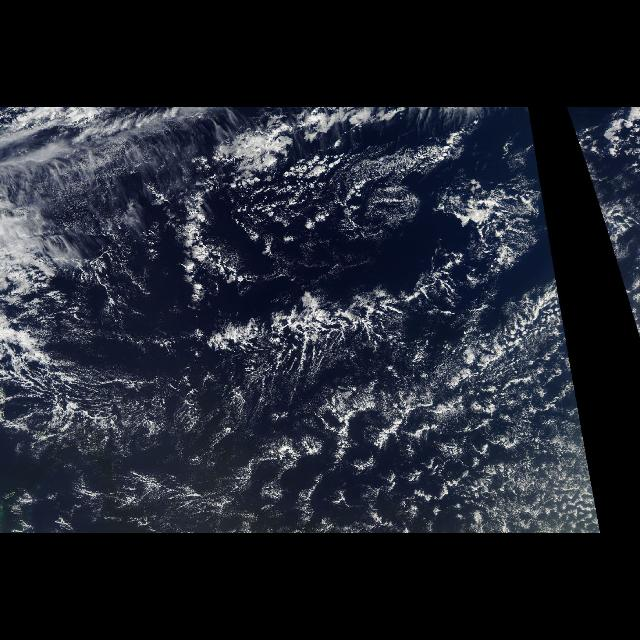Fish: (206, 197, 544, 383)
Flower: (184, 324, 588, 530)
